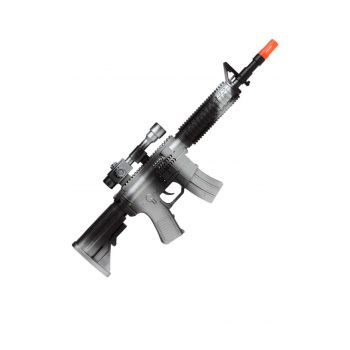Arma Falsa: (72, 38, 279, 276)
